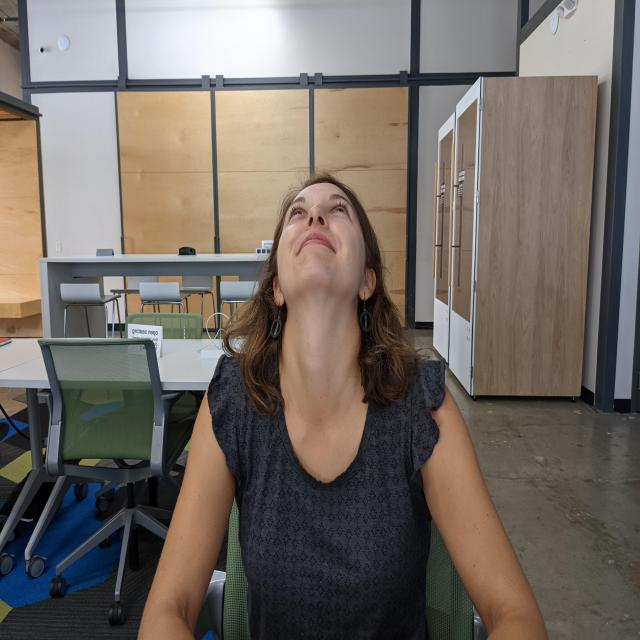face: (267, 175, 379, 308)
